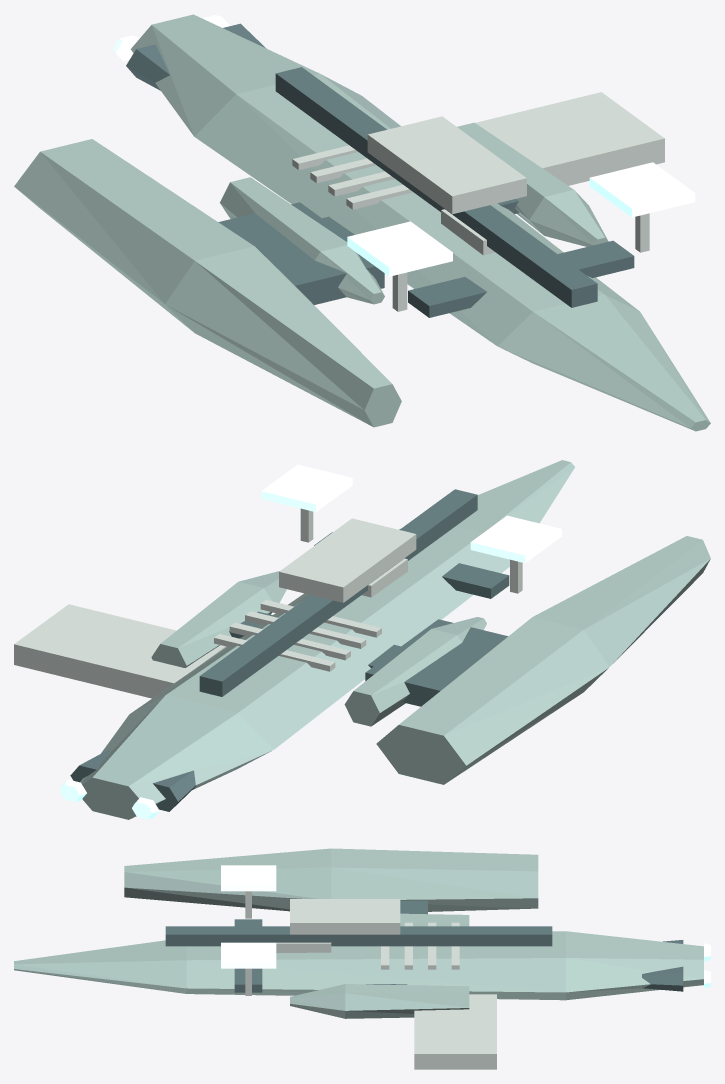
3 views of the same model, one above another, from view 1: azimuth 30°, elevation 25°; view 2: azimuth 150°, elevation 25°; view 3: azimuth 270°, elevation 25° (orthographic). The views are drawn at different scales.
Bounding box in the file's own units: 6.46 × 1.27 × 10.61.
